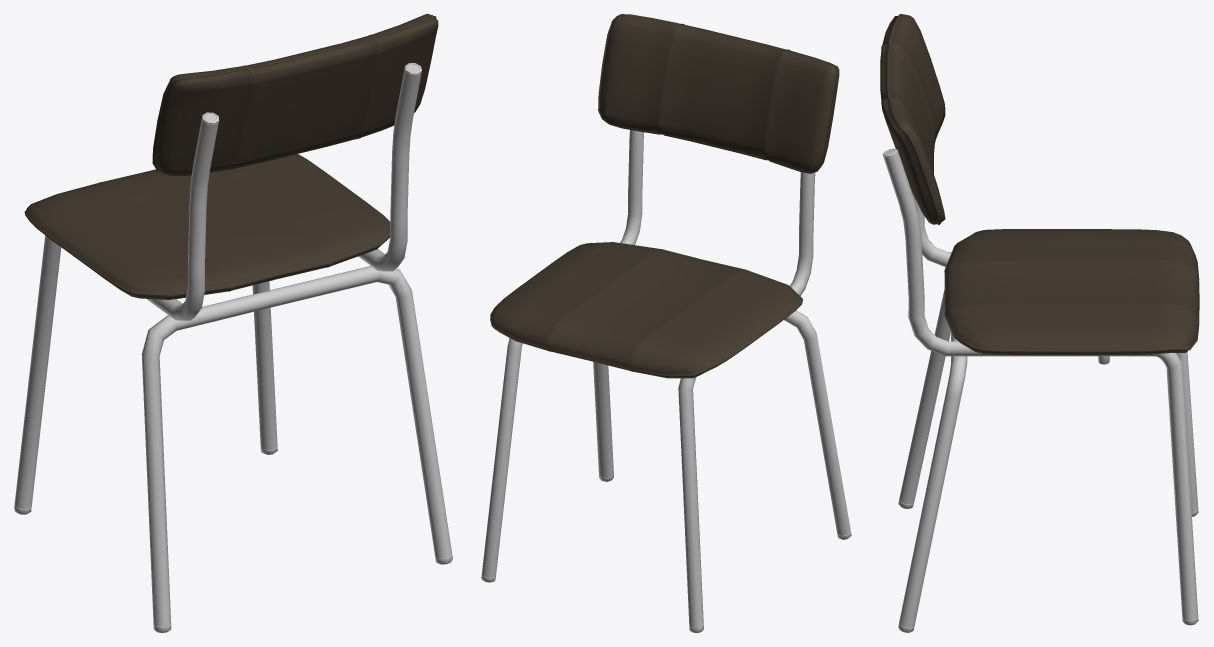
File: MetalChair.fbx
3 views of the same model, side by side, from view 1: azimuth 30°, elevation 25°; view 2: azimuth 150°, elevation 25°; view 3: azimuth 270°, elevation 25° (orthographic). The views are drawn at different scales.
Parts seen in each view (by area): view 1: MetalChair; view 2: MetalChair; view 3: MetalChair.
Boxes of the visible parts, x1,y1,x2,y2 form: MetalChair: (14,14,452,632); MetalChair: (481,14,851,632); MetalChair: (880,14,1199,632).
Bounding box in the file's own units: 0.438 × 0.7808 × 0.4516.
